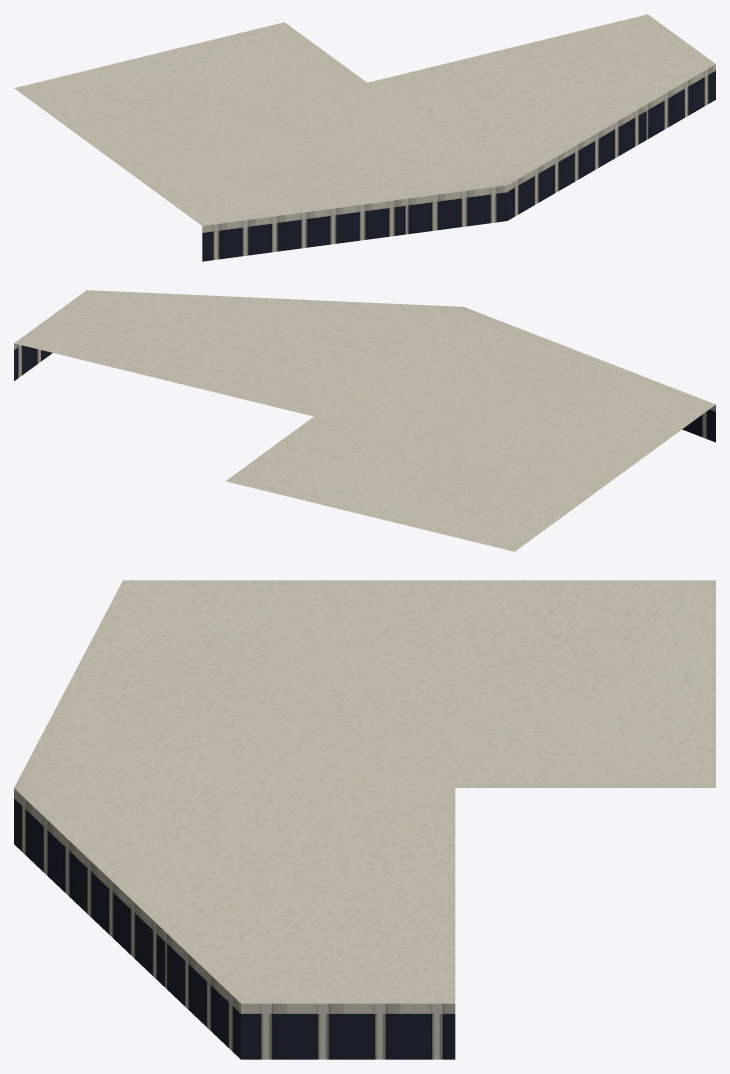
Rendered from palace3.dae.
The picture shows the model from 3 angles, top to bottom: view 1: azimuth 30°, elevation 25°; view 2: azimuth 150°, elevation 25°; view 3: azimuth 270°, elevation 25°; orthographic projection. The views are drawn at different scales.
Parts seen in each view (by area): view 1: palace3; view 2: palace3; view 3: palace3.
Boxes of the visible parts, x1,y1,x2,y2 form: palace3: (14,14,715,261); palace3: (14,290,715,551); palace3: (14,580,715,1059).
Size of the model in its own units: 12.27 by 8.59 by 0.7581.
Materials: 1 (1 with a texture image).
